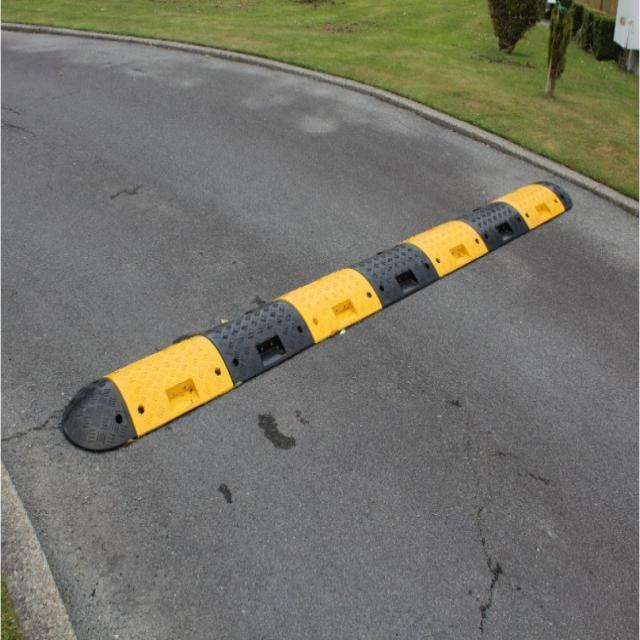speedbreaker: (61, 177, 573, 455)
